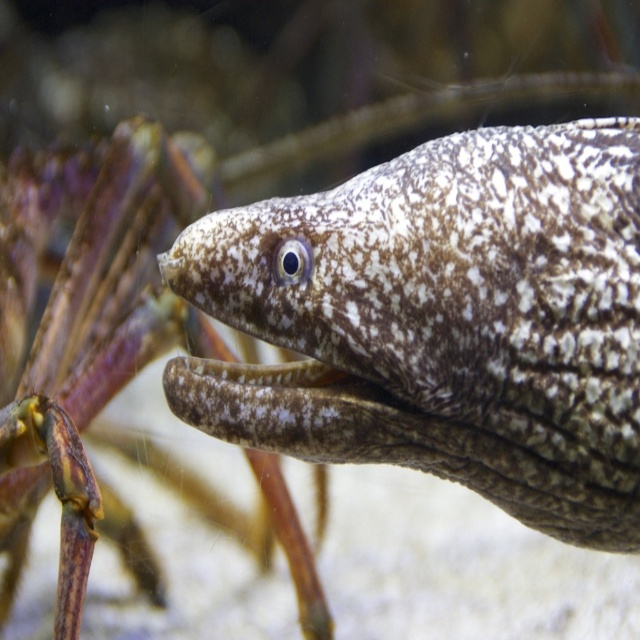Fish: (160, 114, 640, 556)
